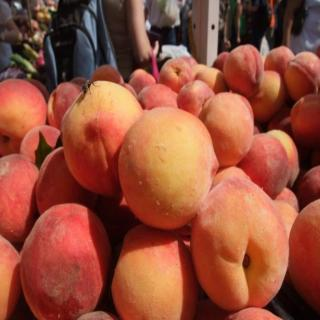Apple: (0, 42, 320, 320), (196, 168, 294, 320)
Peach: (0, 43, 320, 320)
